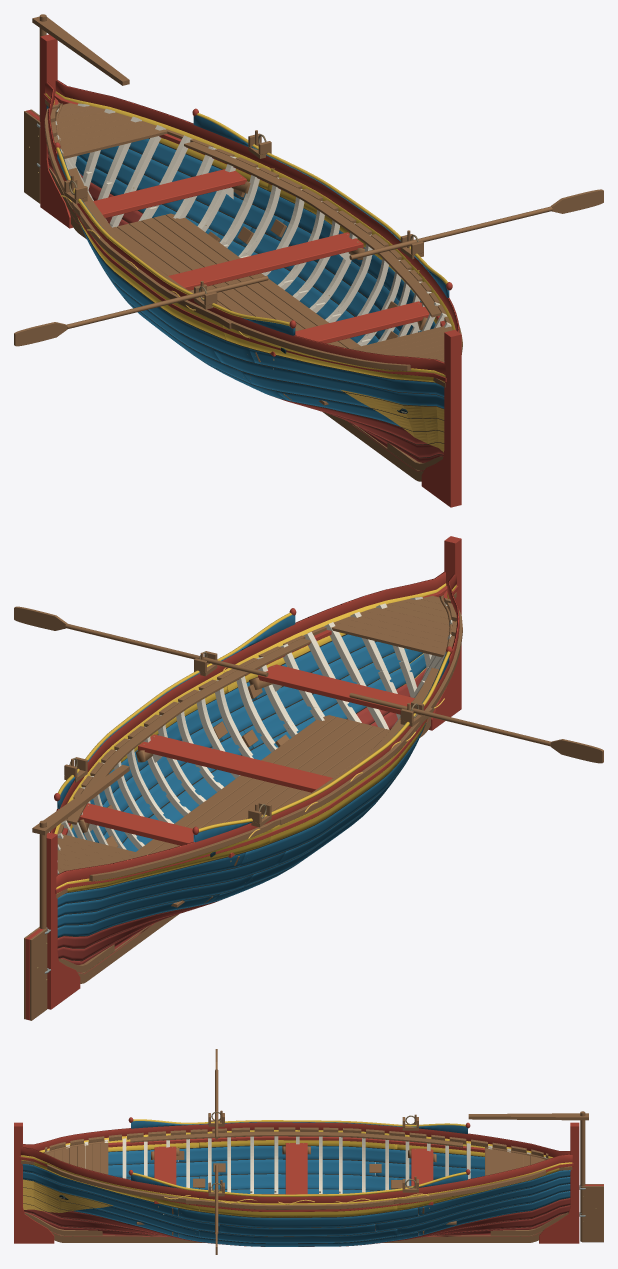
The model's file is luzzu-mobile.glb.
The picture shows the model from 3 angles, top to bottom: view 1: azimuth 30°, elevation 25°; view 2: azimuth 150°, elevation 25°; view 3: azimuth 270°, elevation 25°; orthographic projection. The views are drawn at different scales.
Visible parts, largest first — view 1: washboards-173, bow-post-5, thwarts-344, washboards-74, catwalks-204, thwarts-331, planking-52, stern-post-6, thwarts-357, planking-58, moustache-462, planking-57 (+42 smaller); view 2: washboards-173, thwarts-344, washboards-74, thwarts-357, stern-post-6, catwalks-204, planking-50, thwarts-331, planking-57, planking-56, planking-36, planking-151 (+43 smaller); view 3: washboards-173, washboards-74, planking-156, planking-57, planking-37, stern-post-6, catwalks-105, keel-0, bow-post-5, planking-51, moustache-463, sheer-strake-170 (+51 smaller).
Boxes of the visible parts, x1=… form: washboards-173: x1=55, y1=80, x2=459, y2=332; bow-post-5: x1=421, y1=330, x2=461, y2=507; thwarts-344: x1=168, y1=232, x2=363, y2=290; washboards-74: x1=45, y1=82, x2=445, y2=374; catwalks-204: x1=184, y1=141, x2=441, y2=317; thwarts-331: x1=72, y1=169, x2=246, y2=218; planking-52: x1=213, y1=349, x2=444, y2=408; stern-post-6: x1=40, y1=34, x2=72, y2=228; thwarts-357: x1=270, y1=301, x2=429, y2=356; planking-58: x1=249, y1=348, x2=444, y2=396; moustache-462: x1=340, y1=389, x2=444, y2=452; planking-57: x1=79, y1=221, x2=254, y2=362; washboards-173: x1=50, y1=572, x2=445, y2=833; thwarts-344: x1=138, y1=734, x2=332, y2=792; washboards-74: x1=56, y1=573, x2=459, y2=887; thwarts-357: x1=258, y1=664, x2=414, y2=714; stern-post-6: x1=46, y1=832, x2=80, y2=1009; catwalks-204: x1=66, y1=638, x2=311, y2=824; planking-50: x1=57, y1=851, x2=285, y2=916; thwarts-331: x1=78, y1=803, x2=234, y2=857; planking-57: x1=240, y1=725, x2=424, y2=866; planking-56: x1=57, y1=852, x2=245, y2=906; planking-36: x1=57, y1=874, x2=253, y2=927; planking-151: x1=214, y1=641, x2=394, y2=739; washboards-173: x1=20, y1=1147, x2=572, y2=1203; washboards-74: x1=23, y1=1122, x2=570, y2=1157; planking-156: x1=178, y1=1207, x2=417, y2=1227; planking-57: x1=178, y1=1146, x2=411, y2=1163; planking-37: x1=199, y1=1174, x2=397, y2=1190; stern-post-6: x1=539, y1=1122, x2=579, y2=1243; catwalks-105: x1=130, y1=1131, x2=462, y2=1147; keel-0: x1=65, y1=1235, x2=527, y2=1242; bow-post-5: x1=14, y1=1122, x2=54, y2=1243; planking-51: x1=219, y1=1159, x2=375, y2=1175; moustache-463: x1=23, y1=1179, x2=113, y2=1212; sheer-strake-170: x1=199, y1=1197, x2=397, y2=1217.
Size of the model in its own units: 6.46 by 1.97 by 8.14.
